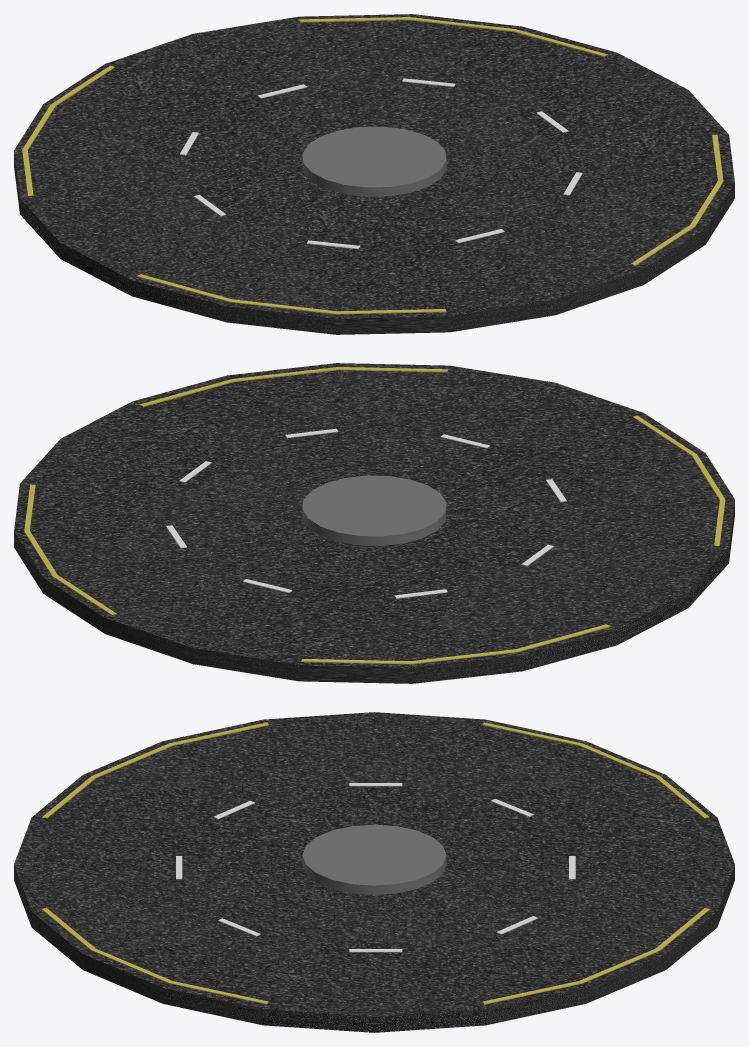
The model's file is round about.fbx.
The picture shows the model from 3 angles, top to bottom: view 1: azimuth 30°, elevation 25°; view 2: azimuth 150°, elevation 25°; view 3: azimuth 270°, elevation 25°; orthographic projection.
Parts seen in each view (by area): view 1: pCylinder3; view 2: pCylinder3; view 3: pCylinder3.
Part boxes in pixels (bbox=[...]): pCylinder3: bbox=[14, 14, 734, 334]; pCylinder3: bbox=[14, 363, 734, 683]; pCylinder3: bbox=[14, 712, 734, 1032].
Size of the model in its own units: 39.94 by 1.55 by 39.94.
4 materials, 1 textured.
